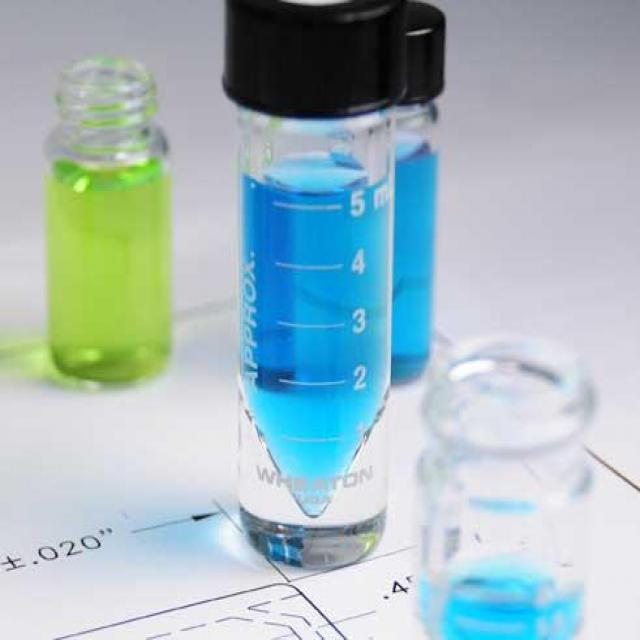metel: (224, 1, 391, 550), (58, 66, 168, 382)
